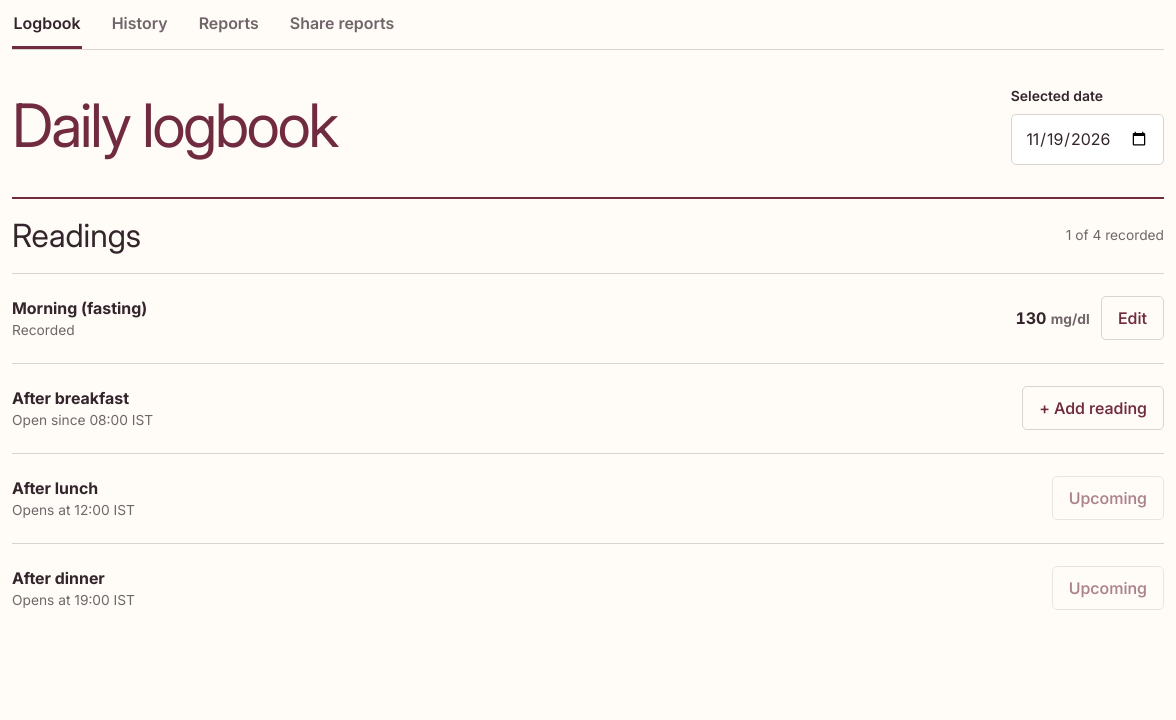
Test: reading form › keeps the entered value and shows the API message when saving fails
expect the text "1 of 4 recorded" is shown: met, box [1066,226,1164,246]
Click the button "Edit".
click(1132, 318)  # box [1101,296,1164,340]
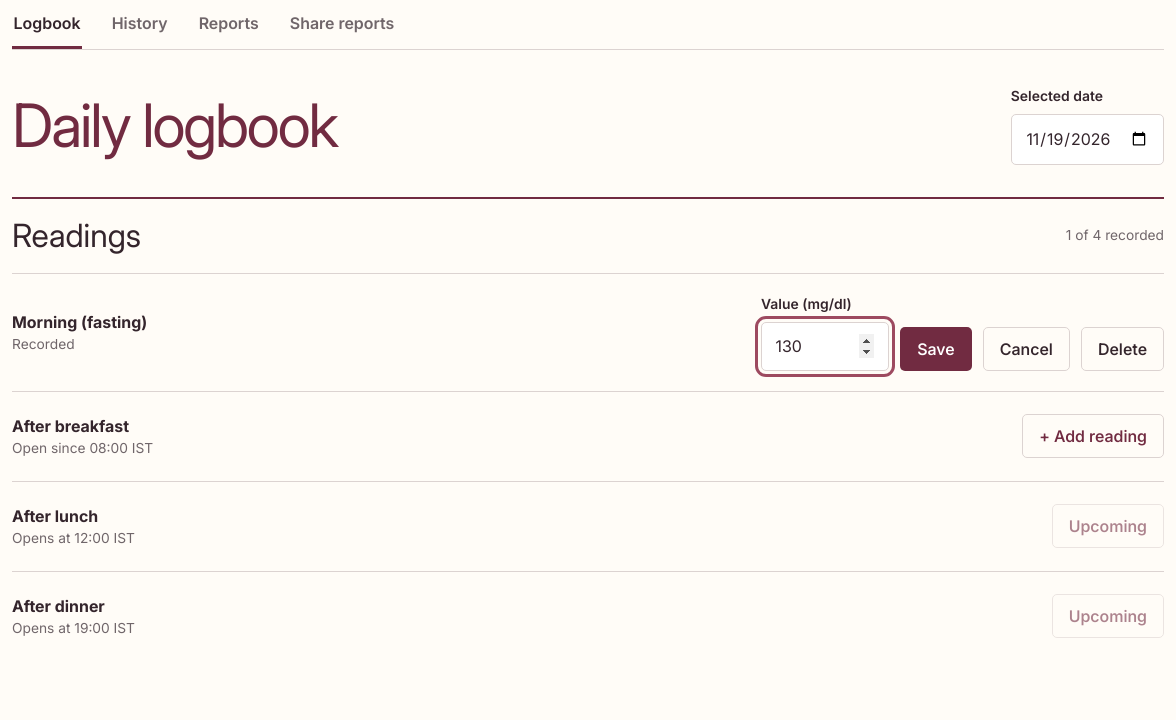
Replace the text in the number field labelled "Value (mg/dl)" with "150" at [825, 346], box [761,322,889,371]
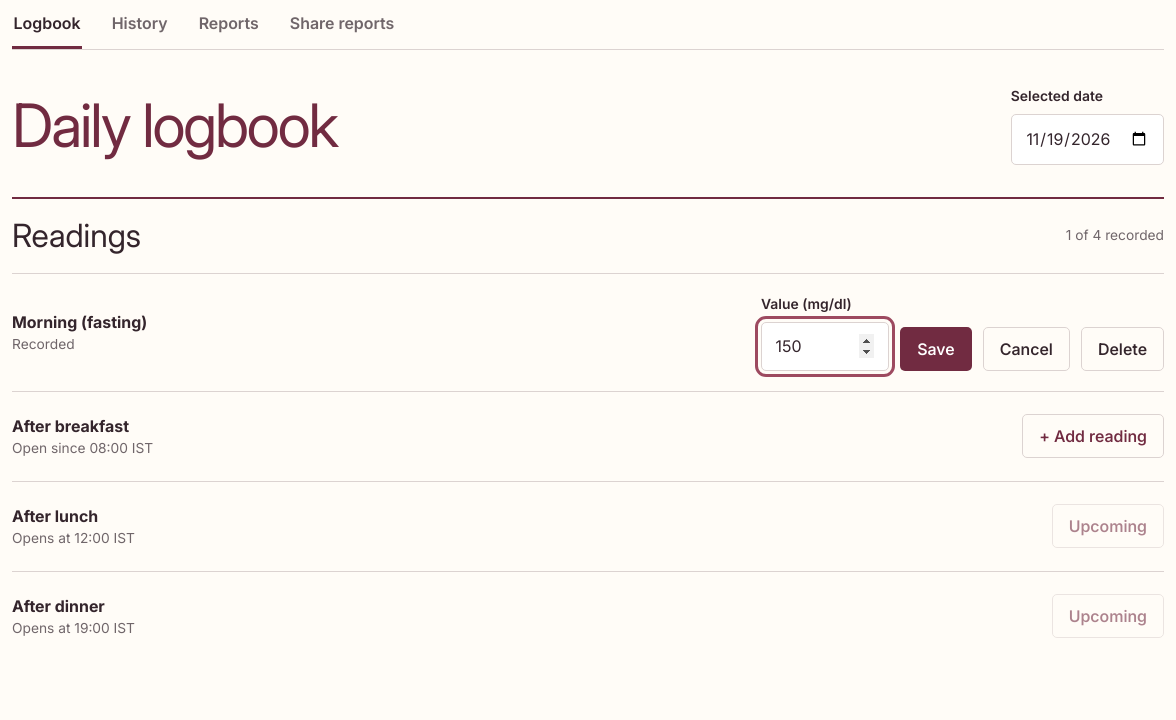
Click the button "Save".
click(936, 349)  # box [900,327,972,371]
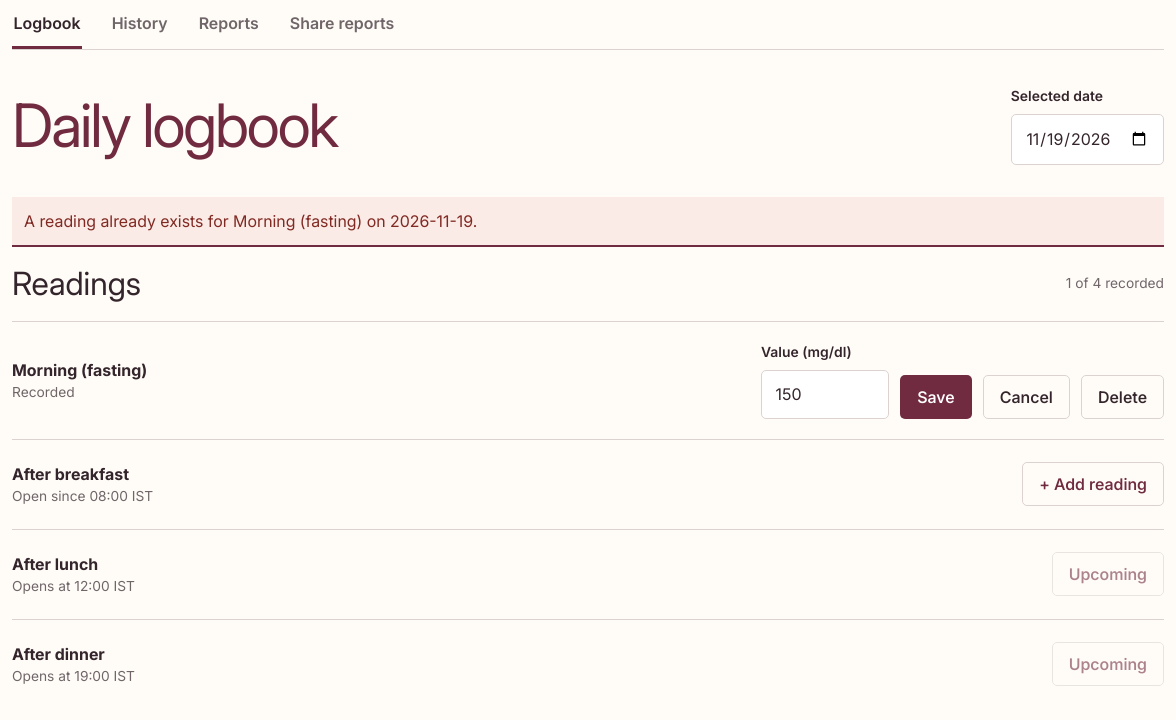
expect the button "Save" is enabled: met, box [900,375,972,419]
expect the message reads "A reading already exists for Morning (fasting) on 2026-11-19.": met, box [24,211,477,231]
